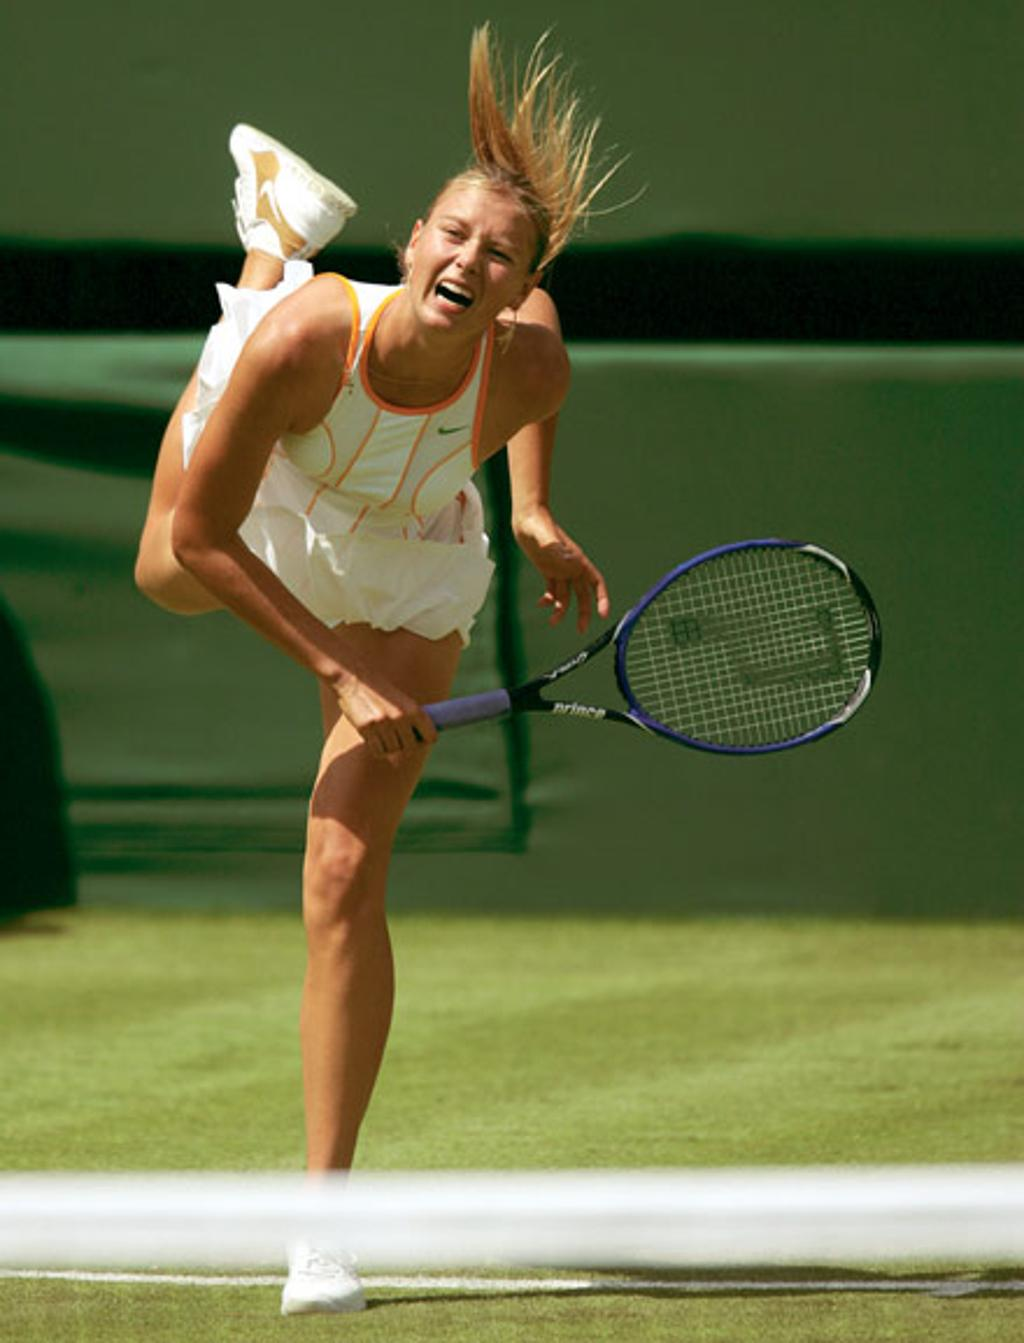face: (410, 186, 531, 338)
